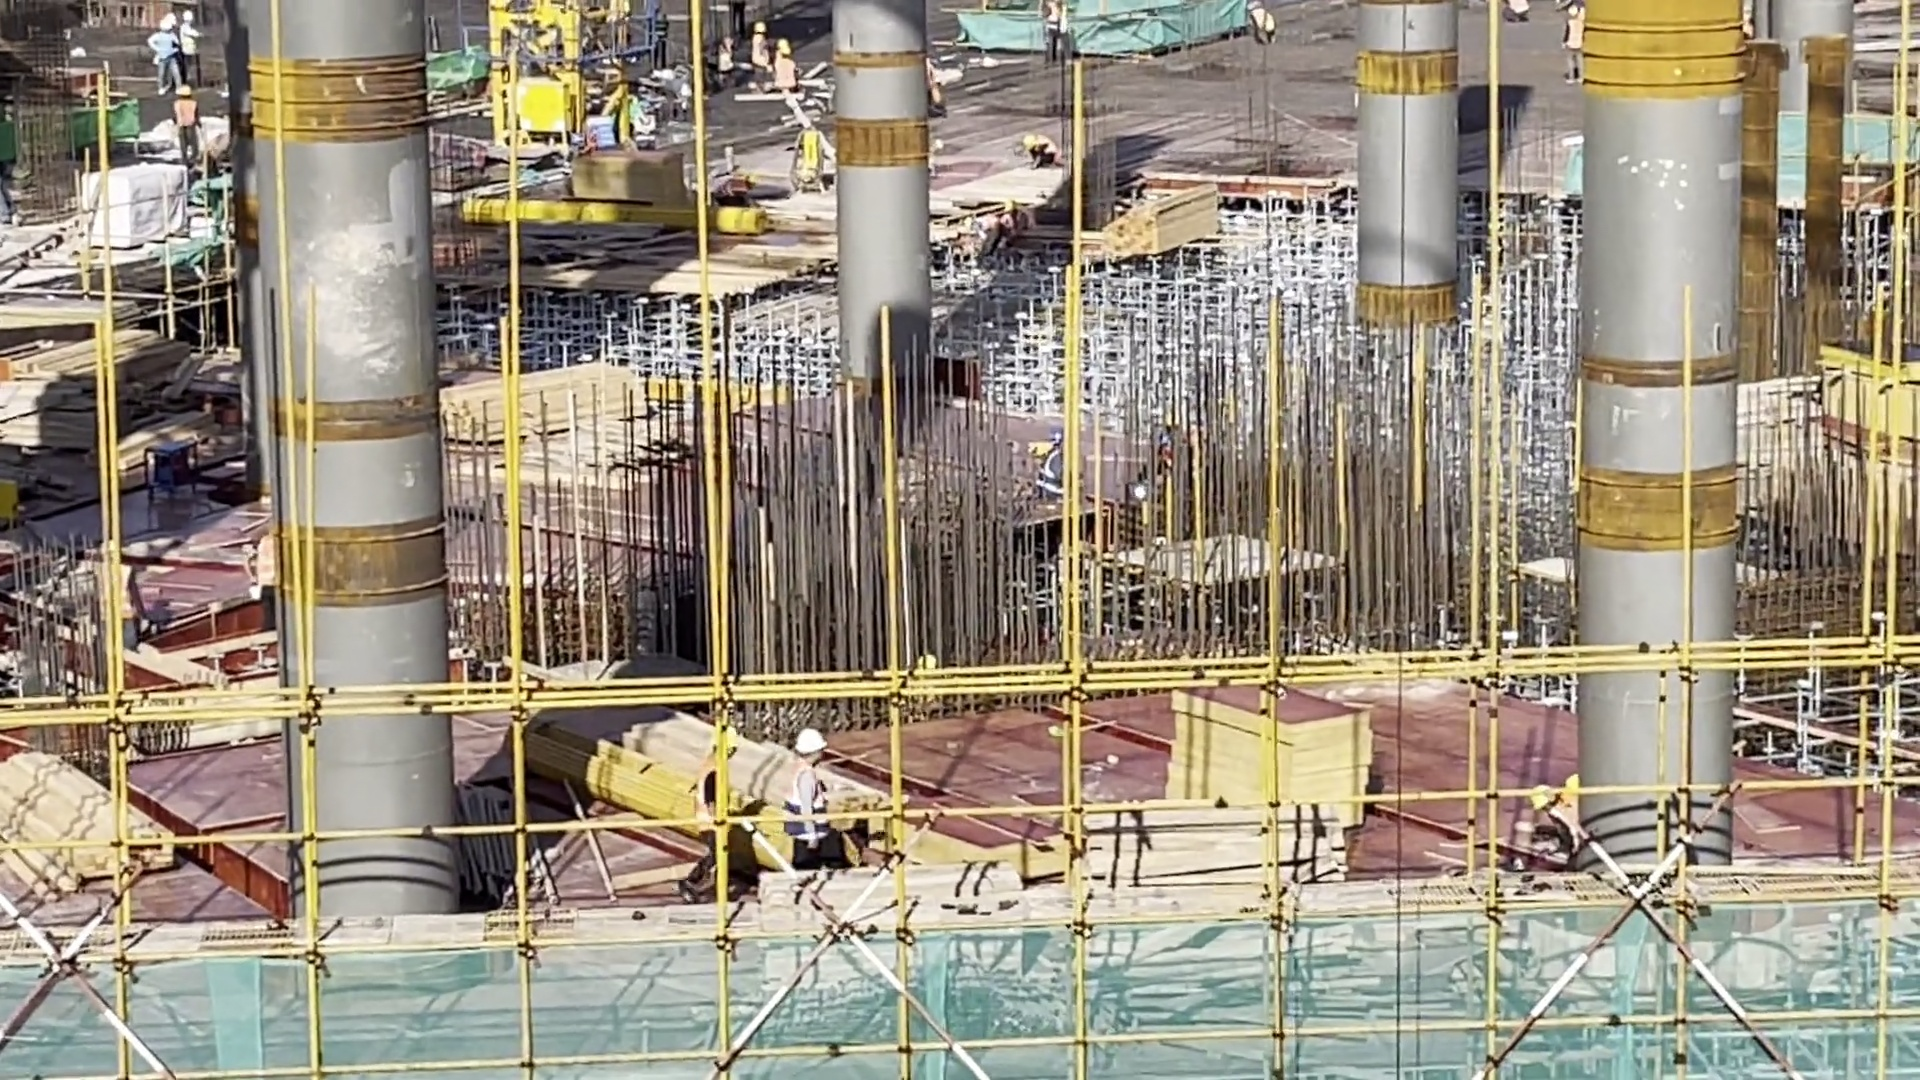board: (1171, 685, 1389, 815), (20, 343, 171, 447)
helmet: (795, 726, 824, 755)
person: (690, 734, 746, 901), (785, 729, 831, 896), (158, 87, 205, 176)
wood: (1083, 792, 1342, 897), (1, 753, 177, 907), (448, 365, 654, 445), (1081, 192, 1225, 262)
